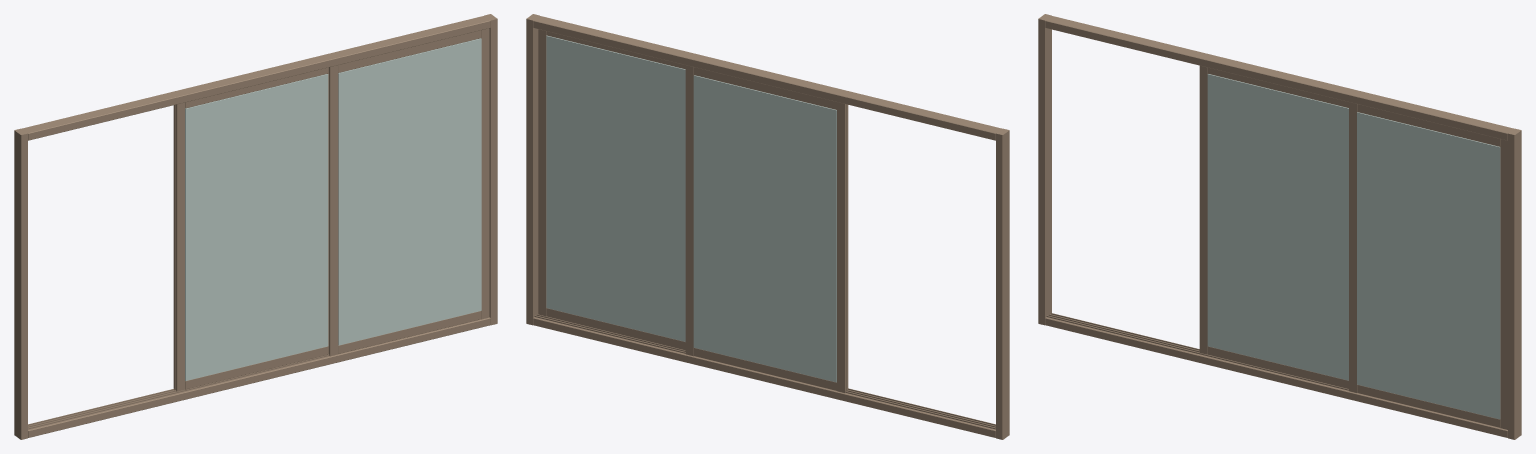
File: co-S90RP-3-quartz-1019-ouvert.glb
3 renders of one model, left to right at view 1: azimuth 30°, elevation 25°; view 2: azimuth 150°, elevation 25°; view 3: azimuth 330°, elevation 25°, orthographic.
Visible parts, largest first — view 1: verre, structure; view 2: verre, structure; view 3: verre, structure.
Part boxes in pixels (bbox=[...]): verre: bbox=[185, 38, 481, 380]; structure: bbox=[14, 14, 497, 439]; verre: bbox=[546, 35, 836, 382]; structure: bbox=[526, 14, 1009, 439]; verre: bbox=[1207, 74, 1500, 419]; structure: bbox=[1038, 14, 1521, 439].
Size of the model in its own units: 3.6 by 2.2 by 0.09.
